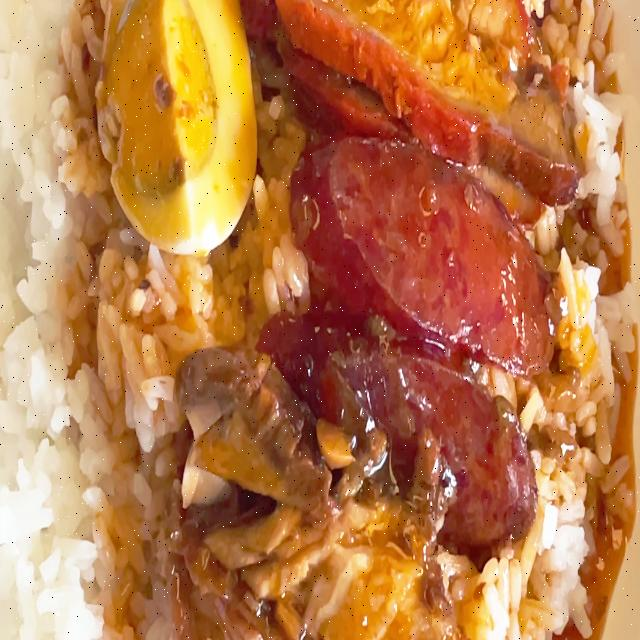boiled_egg: (97, 0, 256, 248)
chainese_sausage: (310, 151, 538, 505)
crispy_pork: (207, 504, 491, 640), (183, 352, 299, 497)
red_pork: (263, 0, 550, 174)
red_pork_and_crispy_pork: (0, 4, 635, 640)
rice: (12, 7, 99, 640), (93, 249, 182, 640)
